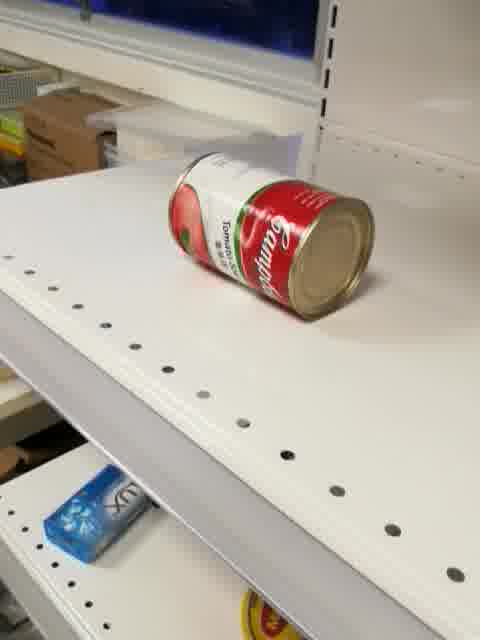tomatosoup: (166, 150, 376, 323)
